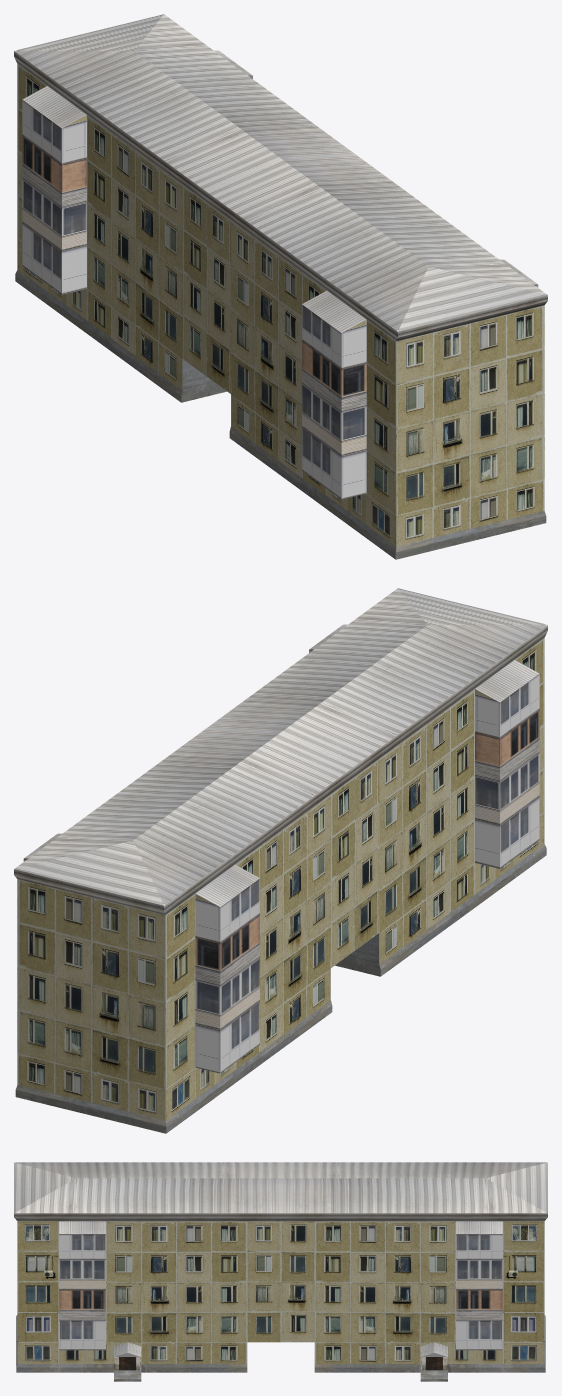
Rendered from building.glb.
3 renders of one model, top to bottom at view 1: azimuth 30°, elevation 25°; view 2: azimuth 150°, elevation 25°; view 3: azimuth 270°, elevation 25°, orthographic. The views are drawn at different scales.
Visible parts, largest first — view 1: Cube; view 2: Cube; view 3: Cube.
Part boxes in pixels (left/top/right/bottom): Cube: left=14, top=14, right=547, bottom=559; Cube: left=14, top=588, right=547, bottom=1133; Cube: left=14, top=1162, right=547, bottom=1381.
Bounding box in the file's own units: 276 × 314 × 898.
1 material, 1 textured.
